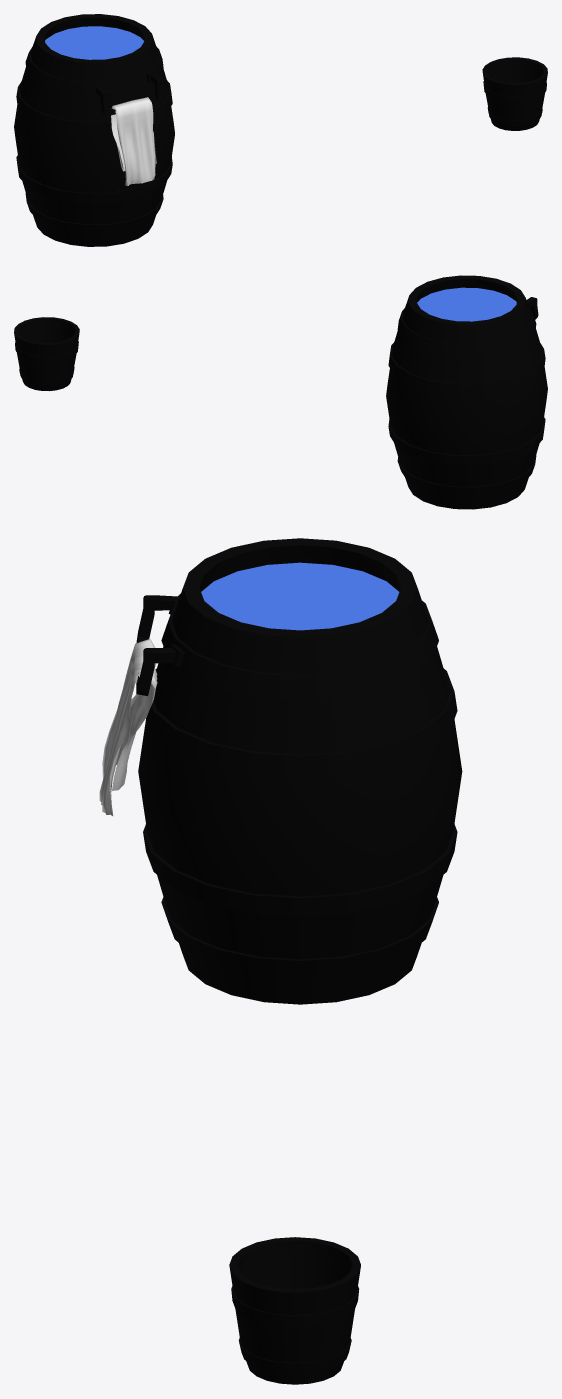
The model's file is sinkBarrel.fbx.
3 renders of one model, top to bottom at view 1: azimuth 30°, elevation 25°; view 2: azimuth 150°, elevation 25°; view 3: azimuth 270°, elevation 25°, orthographic. The views are drawn at different scales.
Visible parts, largest first — view 1: barrel3, sinkBucket, cloth, water1, handle; view 2: barrel3, sinkBucket, water1; view 3: barrel3, sinkBucket, water1, cloth, handle.
Part boxes in pixels (x1=…): barrel3: x1=14, y1=14, x2=174, y2=246; sinkBucket: x1=482, y1=57, x2=547, y2=130; cloth: x1=111, y1=97, x2=156, y2=186; water1: x1=45, y1=26, x2=144, y2=59; handle: x1=93, y1=71, x2=163, y2=115; barrel3: x1=386, y1=275, x2=547, y2=509; sinkBucket: x1=14, y1=317, x2=79, y2=391; water1: x1=417, y1=287, x2=516, y2=321; barrel3: x1=138, y1=538, x2=462, y2=1004; sinkBucket: x1=229, y1=1237, x2=360, y2=1384; water1: x1=201, y1=562, x2=399, y2=630; cloth: x1=99, y1=639, x2=157, y2=815; handle: x1=136, y1=593, x2=184, y2=696.
Size of the model in its own units: 2.89 by 0.9799 by 0.8767.
